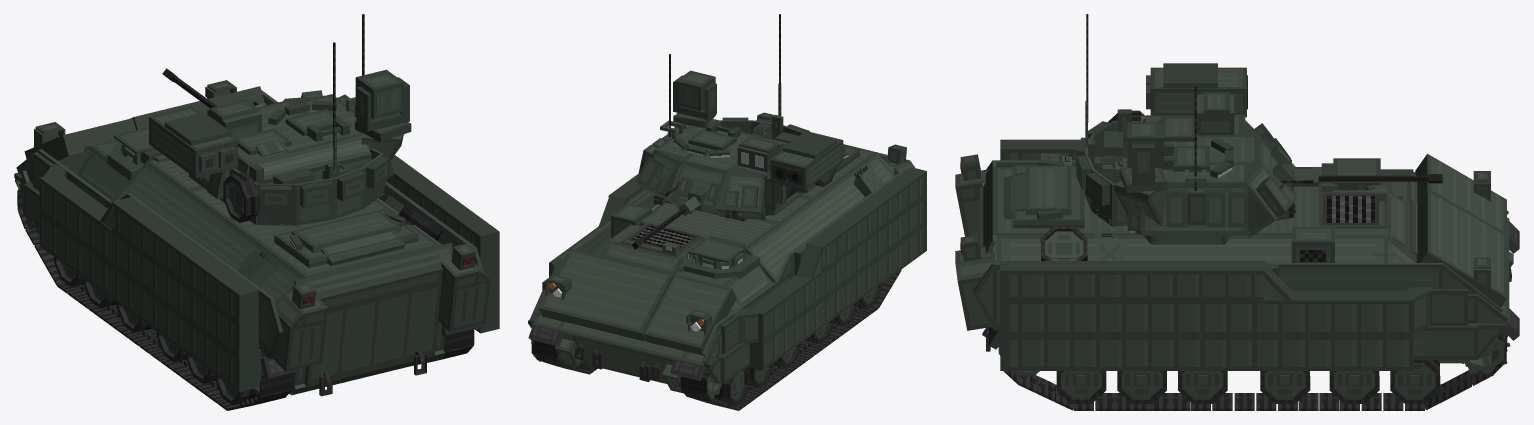
The model's file is m3a3-bradley.gltf.
3 renders of one model, left to right at view 1: azimuth 30°, elevation 25°; view 2: azimuth 150°, elevation 25°; view 3: azimuth 270°, elevation 25°, orthographic. The views are drawn at different scales.
Parts seen in each view (by area): view 1: bone4 (×7), corpus (×17), hexadecagon (×20), door2, luk2 (×3), doorrr (×2), guge5, luk5 (×2), pdd2, bort, bone2, gus125 (+1 smaller); view 2: corpus (×16), bone4 (×8), doorrr (×2), hexadecagon (×13), guge5, pered (×2), luk5, bort, pdd2, bone2, gus156; view 3: bone4 (×7), corpus (×17), hexadecagon (×19), doorrr (×2), luk2 (×3), guge5, bort2, luk5, pdd2, barrel, WHELL15, wheelR1 (+6 smaller).
Boxes of the visible parts, bbox=[...] form: bone4 (×7): bbox=[33, 152, 499, 392]; corpus (×17): bbox=[38, 90, 490, 394]; hexadecagon (×20): bbox=[164, 69, 411, 225]; door2: bbox=[304, 267, 442, 387]; luk2 (×3): bbox=[274, 208, 418, 267]; doorrr (×2): bbox=[24, 86, 264, 160]; guge5: bbox=[149, 106, 237, 178]; luk5 (×2): bbox=[107, 127, 155, 180]; pdd2: bbox=[285, 109, 339, 136]; bort: bbox=[23, 182, 260, 382]; bone2: bbox=[237, 254, 274, 287]; gus125: bbox=[260, 373, 292, 396]; corpus (×16): bbox=[532, 144, 907, 383]; bone4 (×8): bbox=[598, 119, 926, 370]; doorrr (×2): bbox=[538, 248, 736, 355]; hexadecagon (×13): bbox=[636, 70, 836, 219]; guge5: bbox=[770, 131, 843, 190]; pered (×2): bbox=[528, 325, 705, 381]; luk5: bbox=[687, 238, 746, 262]; bort: bbox=[719, 343, 749, 383]; pdd2: bbox=[688, 129, 736, 150]; bone2: bbox=[854, 169, 883, 197]; gus156: bbox=[680, 376, 707, 395]; bone4 (×7): bbox=[1000, 139, 1468, 370]; corpus (×17): bbox=[955, 161, 1508, 330]; hexadecagon (×19): bbox=[1086, 63, 1291, 235]; doorrr (×2): bbox=[1415, 154, 1507, 307]; luk2 (×3): bbox=[1003, 165, 1084, 228]; guge5: bbox=[1150, 67, 1246, 117]; bort2: bbox=[1413, 323, 1478, 359]; luk5: bbox=[1333, 158, 1380, 184]; pdd2: bbox=[1173, 146, 1209, 171]; barrel: bbox=[1318, 175, 1442, 181]; WHELL15: bbox=[1045, 239, 1083, 258]; wheelR1: bbox=[1394, 369, 1435, 389].
Size of the model in its own units: 4.47 by 5.51 by 8.14.
1 material, 1 textured.
